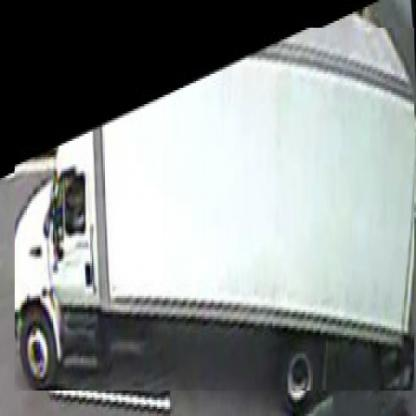truck: (16, 29, 416, 394)
